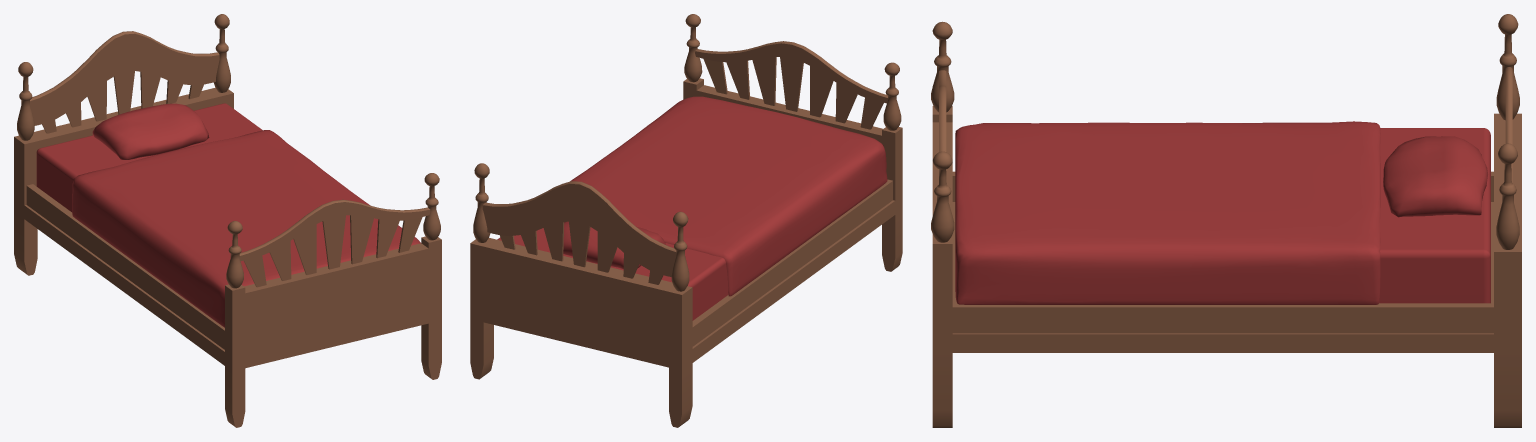
Rendered from KidsBed_Mesh.fbx.
3 views of the same model, side by side, from view 1: azimuth 30°, elevation 25°; view 2: azimuth 150°, elevation 25°; view 3: azimuth 270°, elevation 25° (orthographic). The views are drawn at different scales.
Visible parts, largest first — view 1: Matress1, BedFrame, FrameRailing_Head, Matress, BedRailingSide_Mesh_01, Pillow_Mesh1, FrameRailing_Foot, Plank_Mesh4, BedPole_Mesh_03, BedPole_Mesh_04, Plank_Mesh5, Plank_Mesh3 (+9 smaller); view 2: Matress1, BedFrame, FrameRailing_Head, BedRailingSide_Mesh_01, Matress, FrameRailing_Foot, Plank_Mesh4, BedPole_Mesh_03, Pillow_Mesh1, Plank_Mesh5, BedPole_Mesh_04, BedPole_Mesh_01 (+9 smaller); view 3: Matress1, BedFrame, BedRailingSide_Mesh_02, Matress, Pillow_Mesh1, BedPole_Mesh_04, BedPole_Mesh_05, BedPole_Mesh_03, BedPole_Mesh_01, FrameRailing_Foot, FrameRailing_Head.
Part boxes in pixels (x1=…): Matress1: x1=72, y1=130, x2=420, y2=327; BedFrame: x1=14, y1=87, x2=441, y2=427; FrameRailing_Head: x1=30, y1=31, x2=219, y2=125; Matress: x1=36, y1=103, x2=262, y2=212; BedRailingSide_Mesh_01: x1=26, y1=184, x2=224, y2=349; Pillow_Mesh1: x1=92, y1=103, x2=209, y2=159; FrameRailing_Foot: x1=239, y1=199, x2=430, y2=261; Plank_Mesh4: x1=322, y1=215, x2=345, y2=269; BedPole_Mesh_03: x1=17, y1=62, x2=34, y2=140; BedPole_Mesh_04: x1=213, y1=14, x2=230, y2=92; Plank_Mesh5: x1=350, y1=215, x2=373, y2=264; Plank_Mesh3: x1=293, y1=224, x2=316, y2=274; Matress1: x1=570, y1=96, x2=887, y2=296; BedFrame: x1=470, y1=78, x2=902, y2=427; FrameRailing_Head: x1=482, y1=181, x2=676, y2=276; BedRailingSide_Mesh_01: x1=692, y1=179, x2=892, y2=346; Matress: x1=497, y1=228, x2=728, y2=320; FrameRailing_Foot: x1=695, y1=41, x2=887, y2=103; Plank_Mesh4: x1=780, y1=56, x2=803, y2=111; BedPole_Mesh_03: x1=671, y1=211, x2=689, y2=291; Pillow_Mesh1: x1=563, y1=221, x2=665, y2=268; Plank_Mesh5: x1=752, y1=57, x2=776, y2=105; BedPole_Mesh_04: x1=473, y1=163, x2=490, y2=242; BedPole_Mesh_01: x1=883, y1=62, x2=901, y2=130; Matress1: x1=955, y1=121, x2=1380, y2=304; BedFrame: x1=932, y1=106, x2=1521, y2=427; BedRailingSide_Mesh_02: x1=952, y1=303, x2=1493, y2=333; Matress: x1=1379, y1=128, x2=1490, y2=303; Pillow_Mesh1: x1=1383, y1=136, x2=1487, y2=217; BedPole_Mesh_04: x1=1496, y1=143, x2=1519, y2=249; BedPole_Mesh_05: x1=931, y1=151, x2=954, y2=242; BedPole_Mesh_03: x1=1496, y1=14, x2=1519, y2=120; BedPole_Mesh_01: x1=931, y1=21, x2=954, y2=112; FrameRailing_Foot: x1=939, y1=70, x2=946, y2=175; FrameRailing_Head: x1=1505, y1=67, x2=1512, y2=182.
Size of the model in its own units: 109 by 106 by 195.
